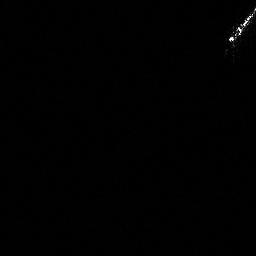ship: (223, 3, 256, 49)
